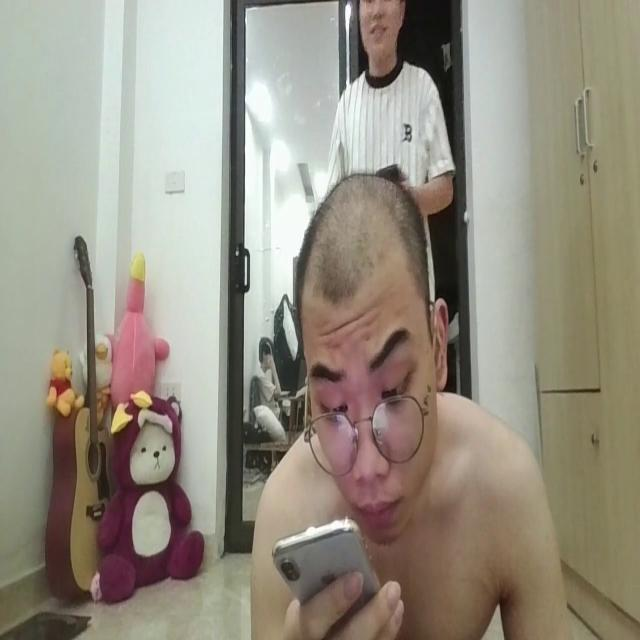extra_person: (312, 0, 454, 303)
student: (233, 170, 576, 640)
